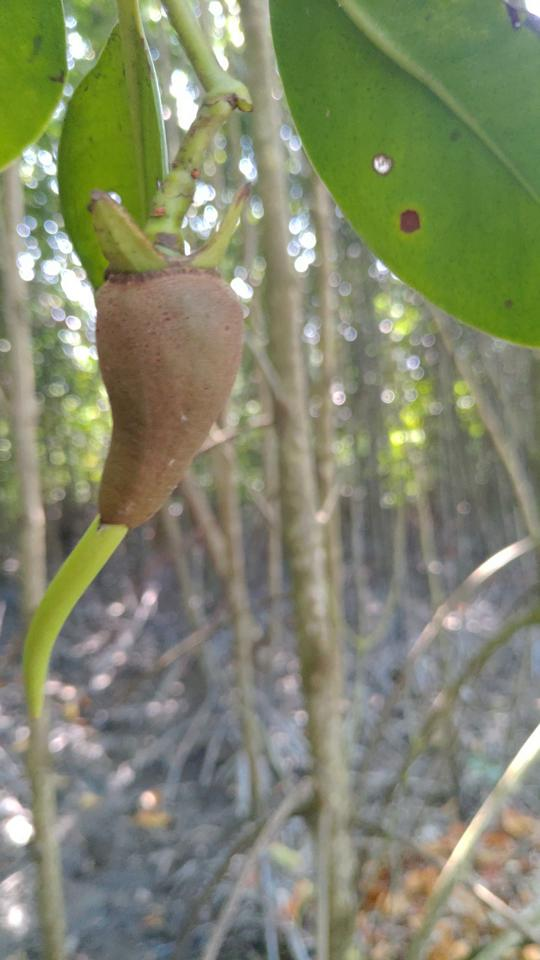mentah: (13, 170, 267, 725)
